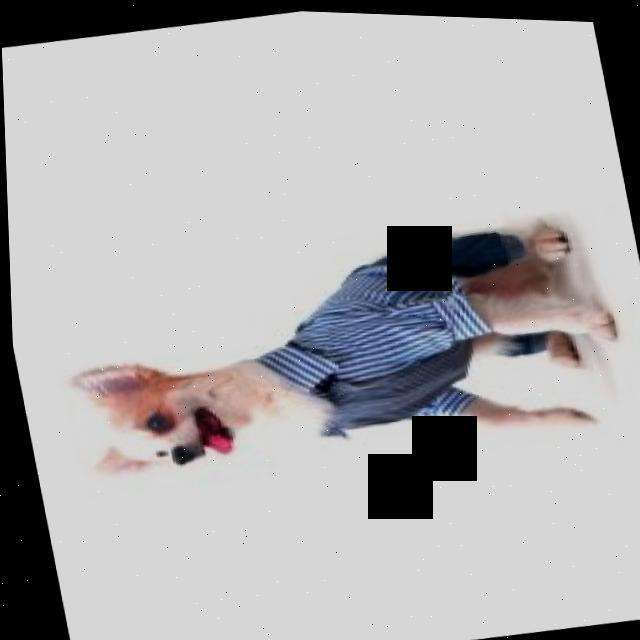cloth: (255, 228, 522, 431), (500, 329, 542, 348)
